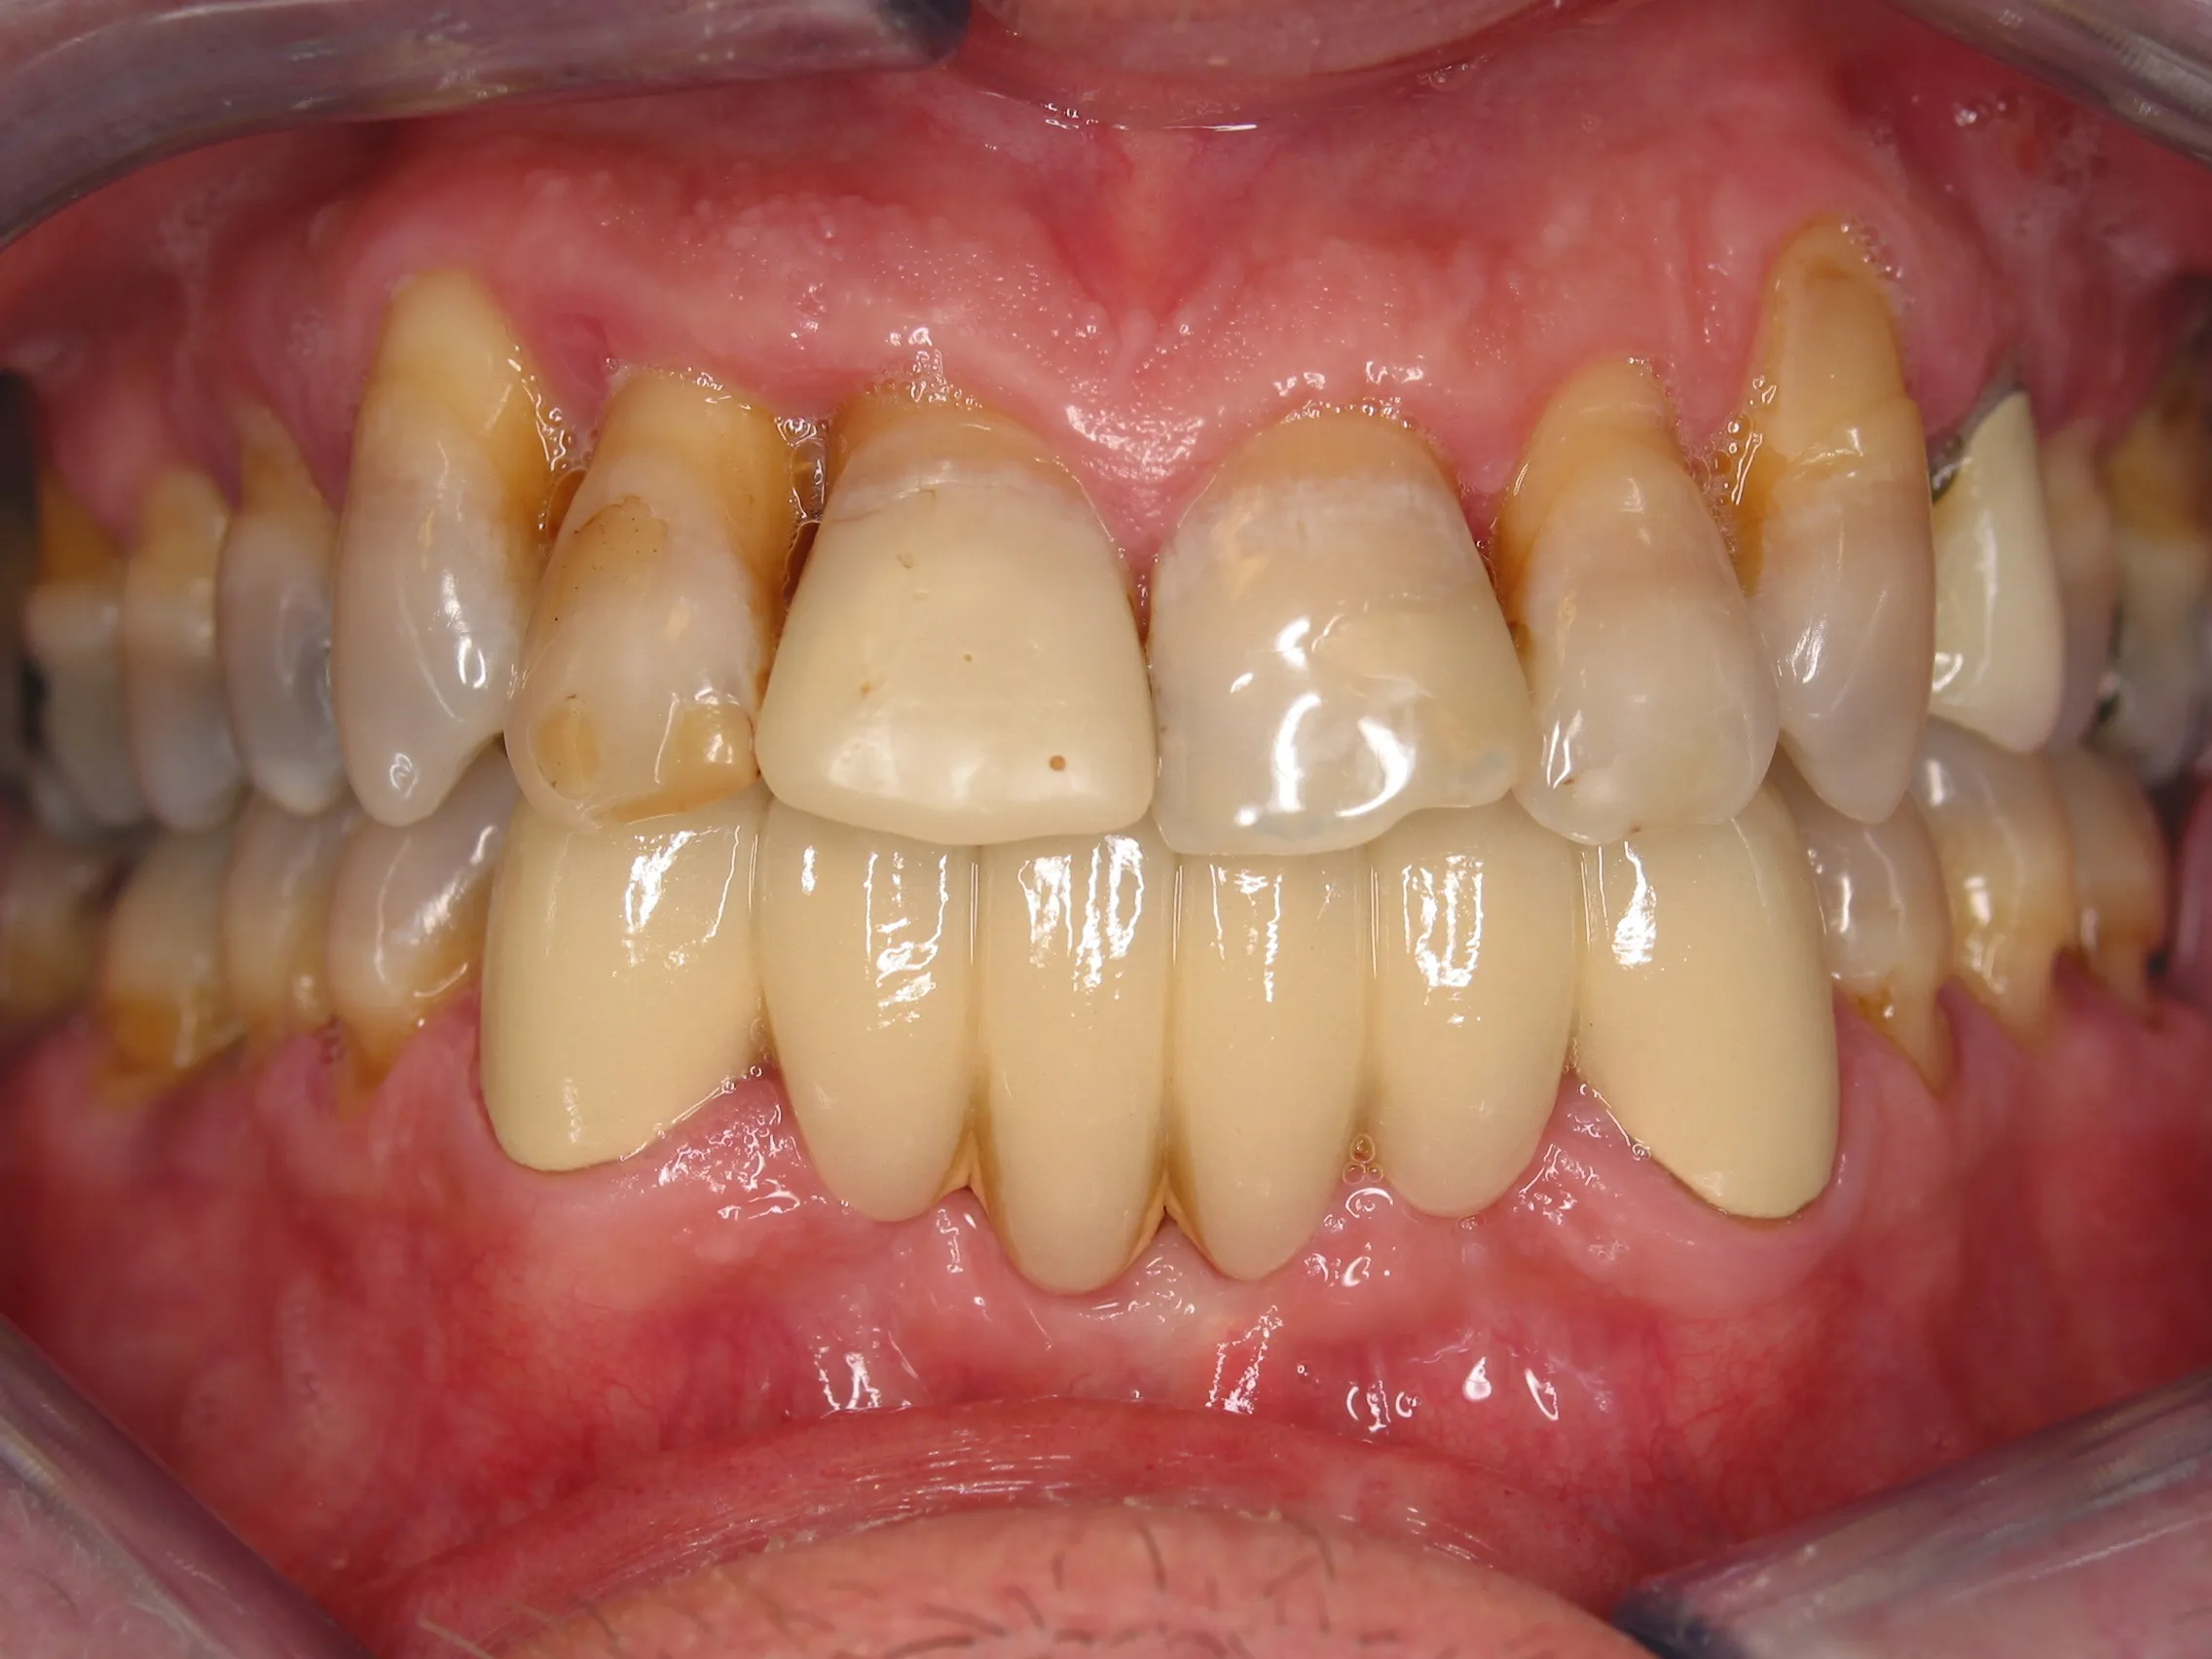LLCI_healthy: (1167, 835, 1374, 1276)
LLC_healthy: (1578, 807, 1855, 1230)
LLLI_healthy: (1364, 817, 1580, 1230)
LR1BC_healthy: (324, 821, 481, 1098)
LRCI_healthy: (979, 835, 1167, 1307)
LRC_healthy: (465, 819, 763, 1190)
LRLI_healthy: (765, 845, 977, 1239)
UL1BC_healthy: (1939, 352, 2069, 765)
ULCI_healthy: (1143, 396, 1521, 857)
ULC_decay: (1733, 221, 1935, 826)
ULLI_healthy: (1507, 368, 1743, 824)
UR1BC_decay: (218, 441, 348, 826)
UR2BC_decay: (124, 462, 237, 847)
URCI_decay: (751, 394, 1144, 835)
URC_decay: (333, 275, 552, 831)
URLI_decay: (498, 362, 796, 831)
